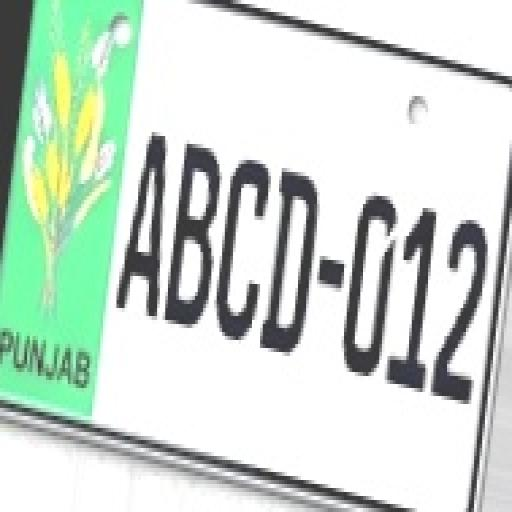0: (350, 176, 394, 392)
1: (400, 211, 429, 396)
2: (437, 206, 485, 416)
A: (121, 128, 164, 322)
B: (167, 124, 213, 340)
C: (222, 152, 266, 366)
D: (266, 147, 320, 375)
